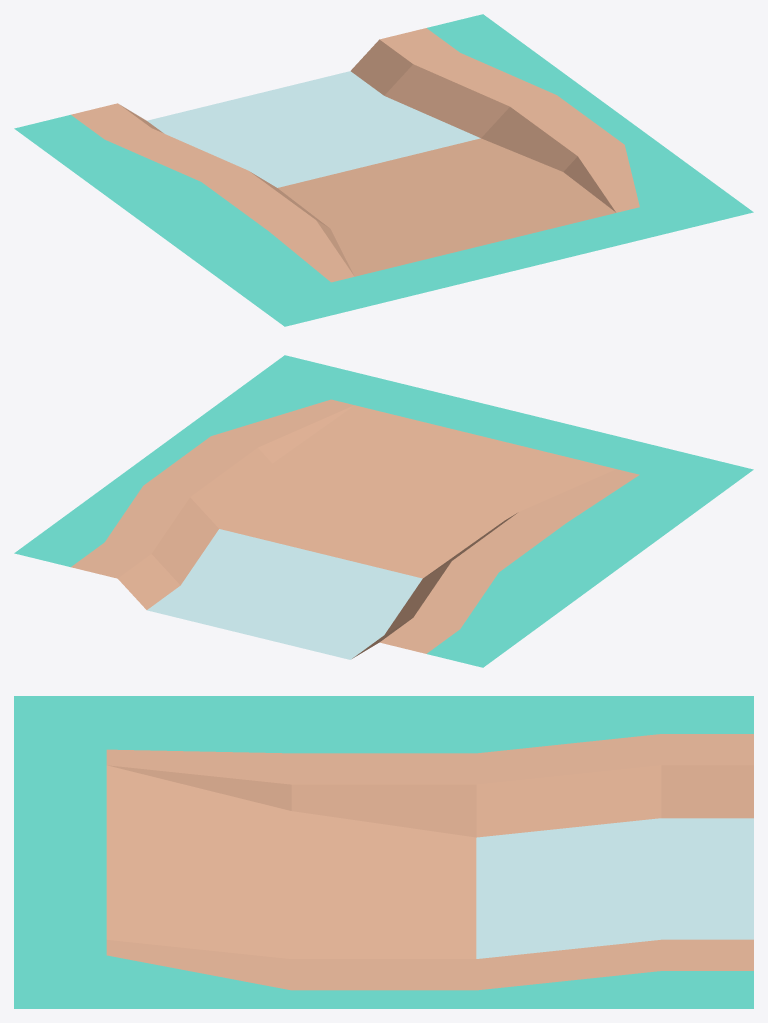
Rendered from ground_riverEnd.gltf.
3 views of the same model, one above another, from view 1: azimuth 30°, elevation 25°; view 2: azimuth 150°, elevation 25°; view 3: azimuth 270°, elevation 25° (orthographic). The views are drawn at different scales.
Parts seen in each view (by area): view 1: ground_riverEnd; view 2: ground_riverEnd; view 3: ground_riverEnd.
Boxes of the visible parts, bbox=[...] form: ground_riverEnd: bbox=[14, 14, 753, 326]; ground_riverEnd: bbox=[14, 355, 753, 667]; ground_riverEnd: bbox=[14, 696, 753, 1008].
Size of the model in its own units: 1 by 0.05 by 1.
